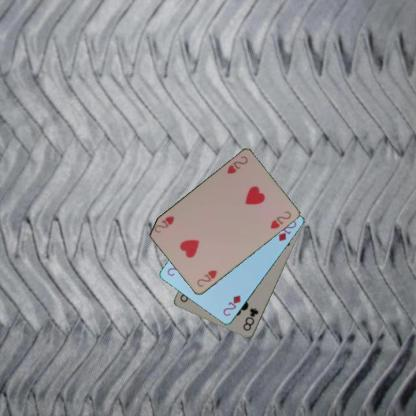2d: (221, 293, 242, 318)
2h: (224, 154, 249, 176), (194, 268, 219, 288)
8c: (240, 305, 260, 332)
